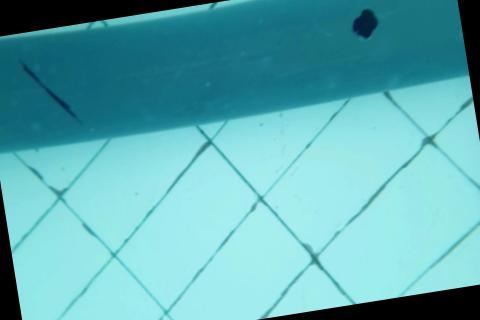kebocoran: (348, 6, 382, 40)
keretakan: (17, 47, 84, 131)
